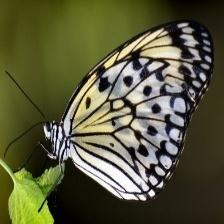butterfly: (44, 21, 213, 202)
